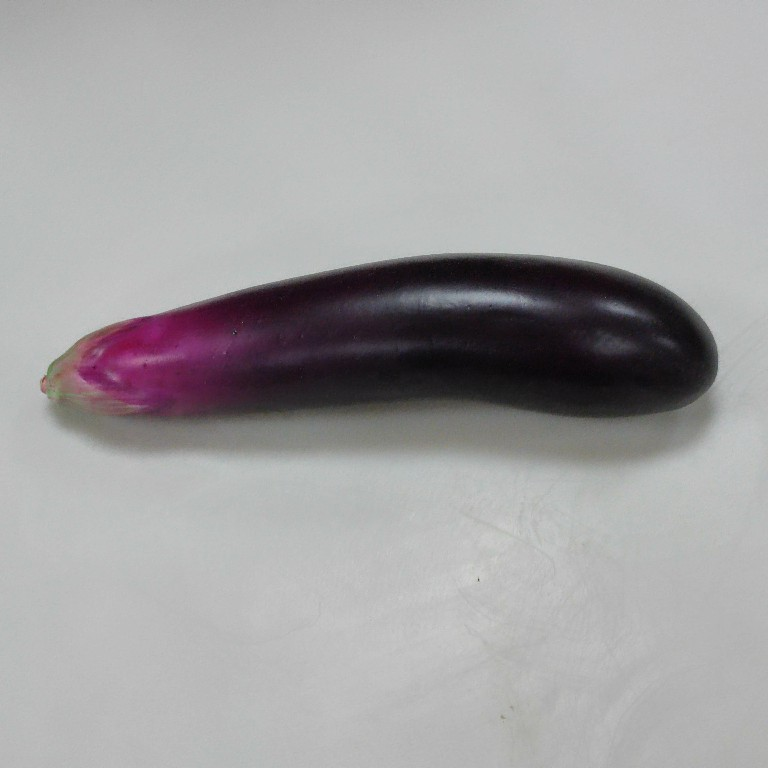fruit_eggplant: (33, 249, 724, 422)
